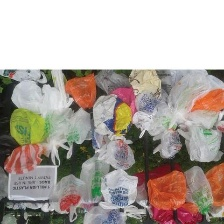plastic_bag: (8, 76, 74, 167), (159, 68, 209, 131), (183, 73, 224, 129), (88, 92, 134, 140), (175, 121, 224, 164), (177, 162, 214, 218), (75, 152, 112, 207), (144, 168, 187, 213), (91, 133, 138, 173), (61, 106, 93, 162), (99, 168, 138, 211), (7, 108, 48, 147), (50, 175, 86, 219), (132, 99, 165, 144), (61, 73, 99, 112), (123, 68, 167, 100), (4, 144, 46, 175), (81, 204, 146, 223), (91, 64, 131, 94), (48, 61, 72, 110), (150, 128, 183, 160), (187, 86, 223, 115), (202, 166, 223, 211), (0, 68, 48, 87)
